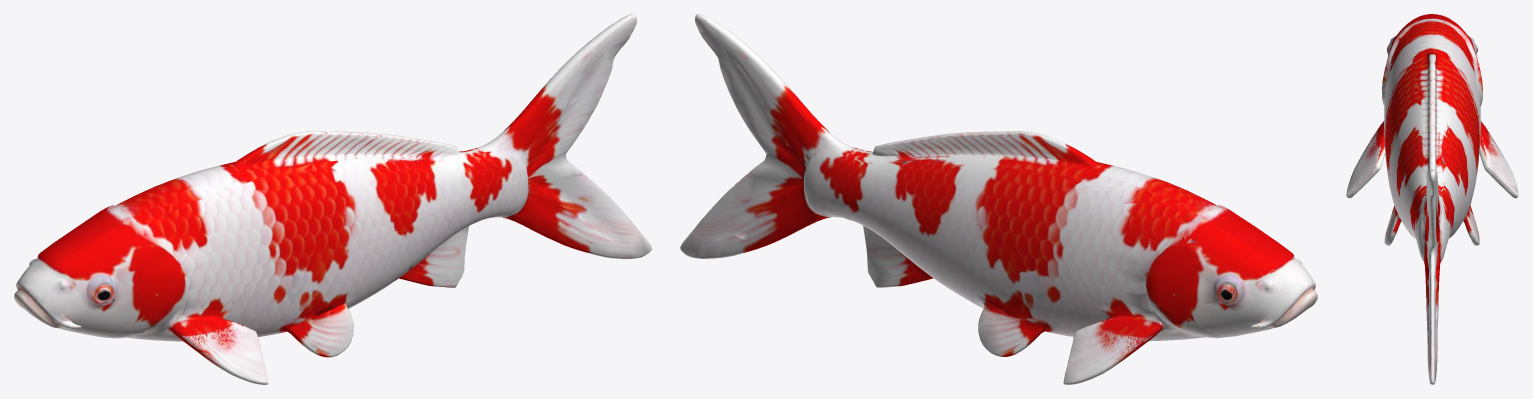
Rendered from koi.glb.
3 renders of one model, left to right at view 1: azimuth 30°, elevation 25°; view 2: azimuth 150°, elevation 25°; view 3: azimuth 270°, elevation 25°, orthographic. The views are drawn at different scales.
Visible parts, largest first — view 1: koi; view 2: koi; view 3: koi.
Part boxes in pixels (x1,y1,x2,y2): koi: [14, 14, 651, 384]; koi: [680, 14, 1317, 384]; koi: [1346, 14, 1518, 384].
Bounding box in the file's own units: 1 × 0.3687 × 0.2765.
Materials: 1 (1 with a texture image).
